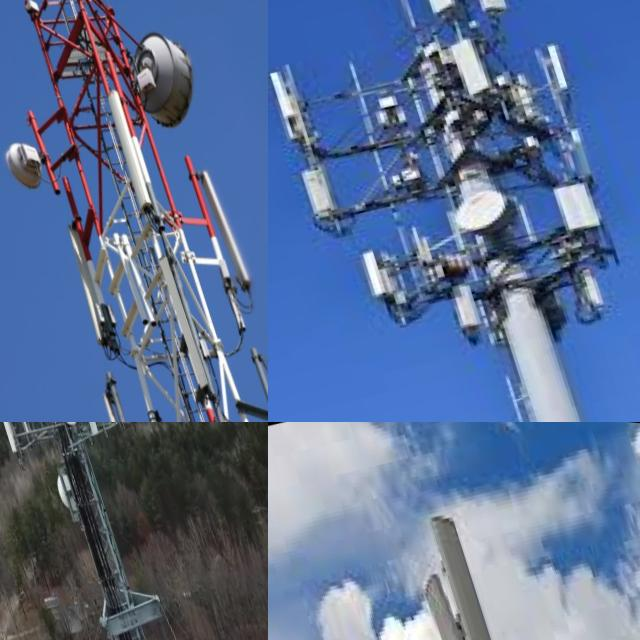GSM Antenna: (424, 496, 521, 640), (54, 203, 130, 361), (192, 154, 268, 290), (417, 560, 510, 640), (542, 160, 612, 236), (441, 21, 501, 96), (92, 361, 164, 422), (292, 155, 348, 225), (352, 244, 391, 300), (448, 275, 486, 328), (402, 0, 472, 18), (464, 0, 517, 19)
Microwave Antenna: (113, 3, 220, 138), (438, 169, 520, 246), (0, 116, 59, 202), (47, 458, 87, 520)
